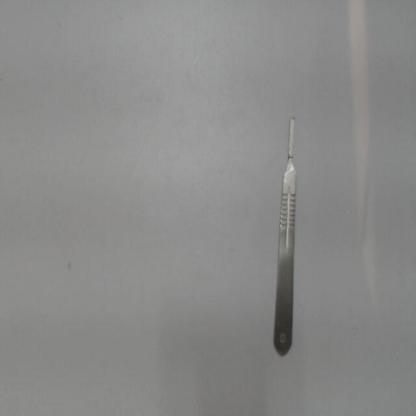No.4 BP Handle: (269, 110, 303, 370)
